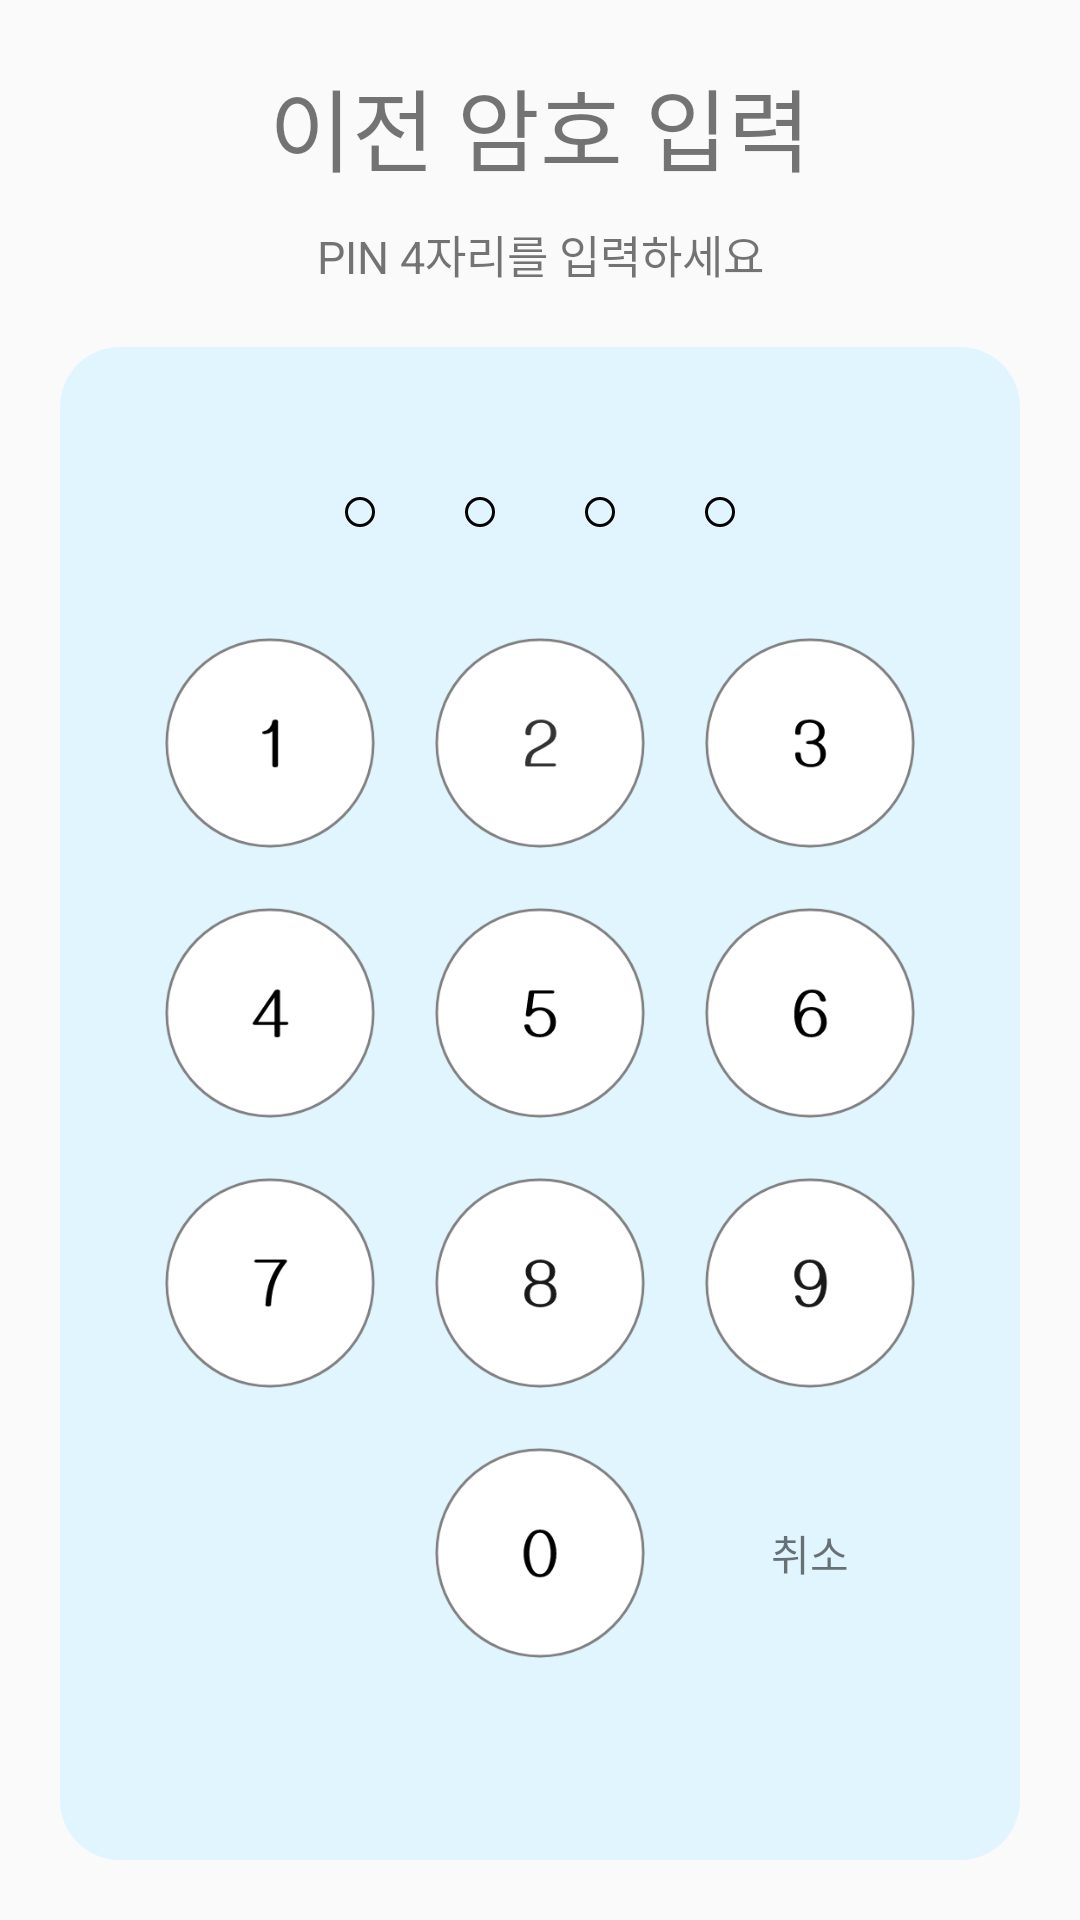

Screen size 1080*1920. Icon name, then its center in pixels as [x,y]:
dots disable: [360,512], [480,512], [600,512], [720,512]
